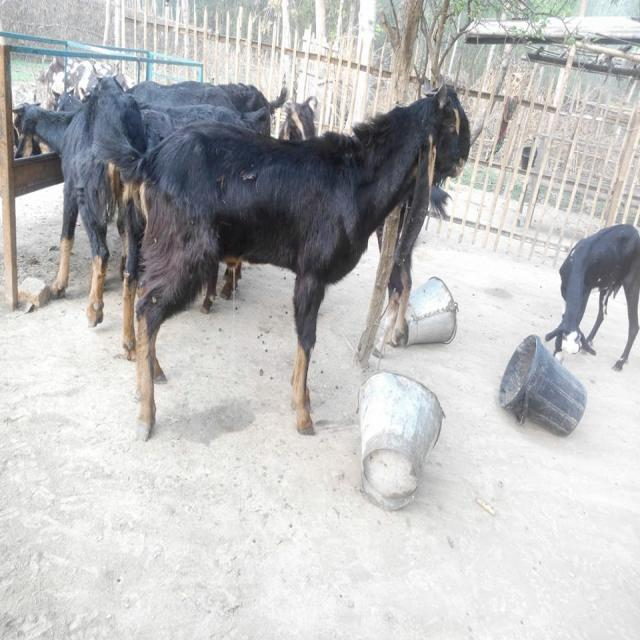Goat: (93, 80, 473, 441), (11, 73, 282, 333), (545, 221, 640, 371)
